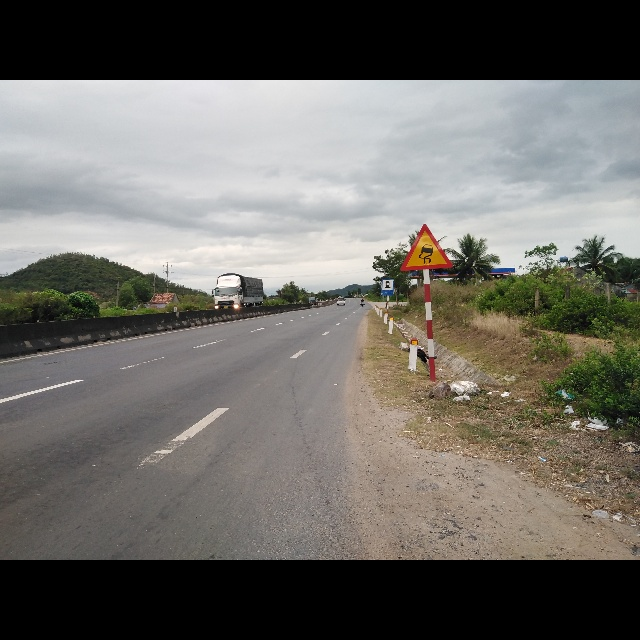Đường trơn trượt: (401, 219, 453, 270)
